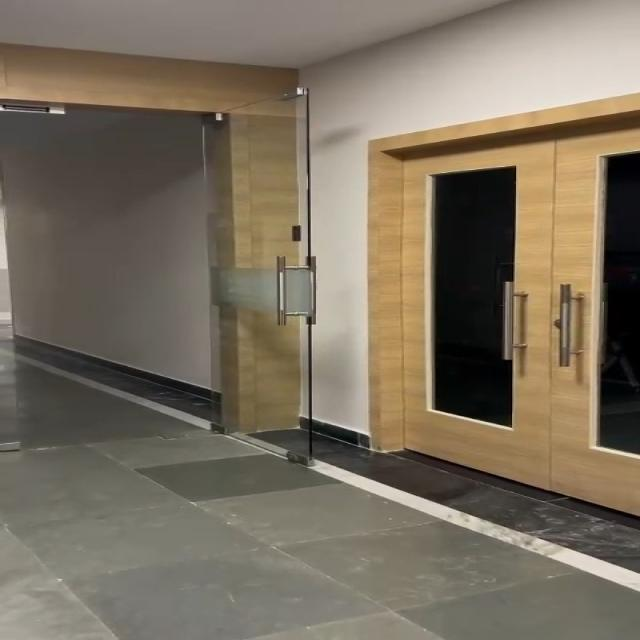door: (9, 41, 324, 461), (360, 131, 640, 499)
floor: (0, 466, 639, 640)
